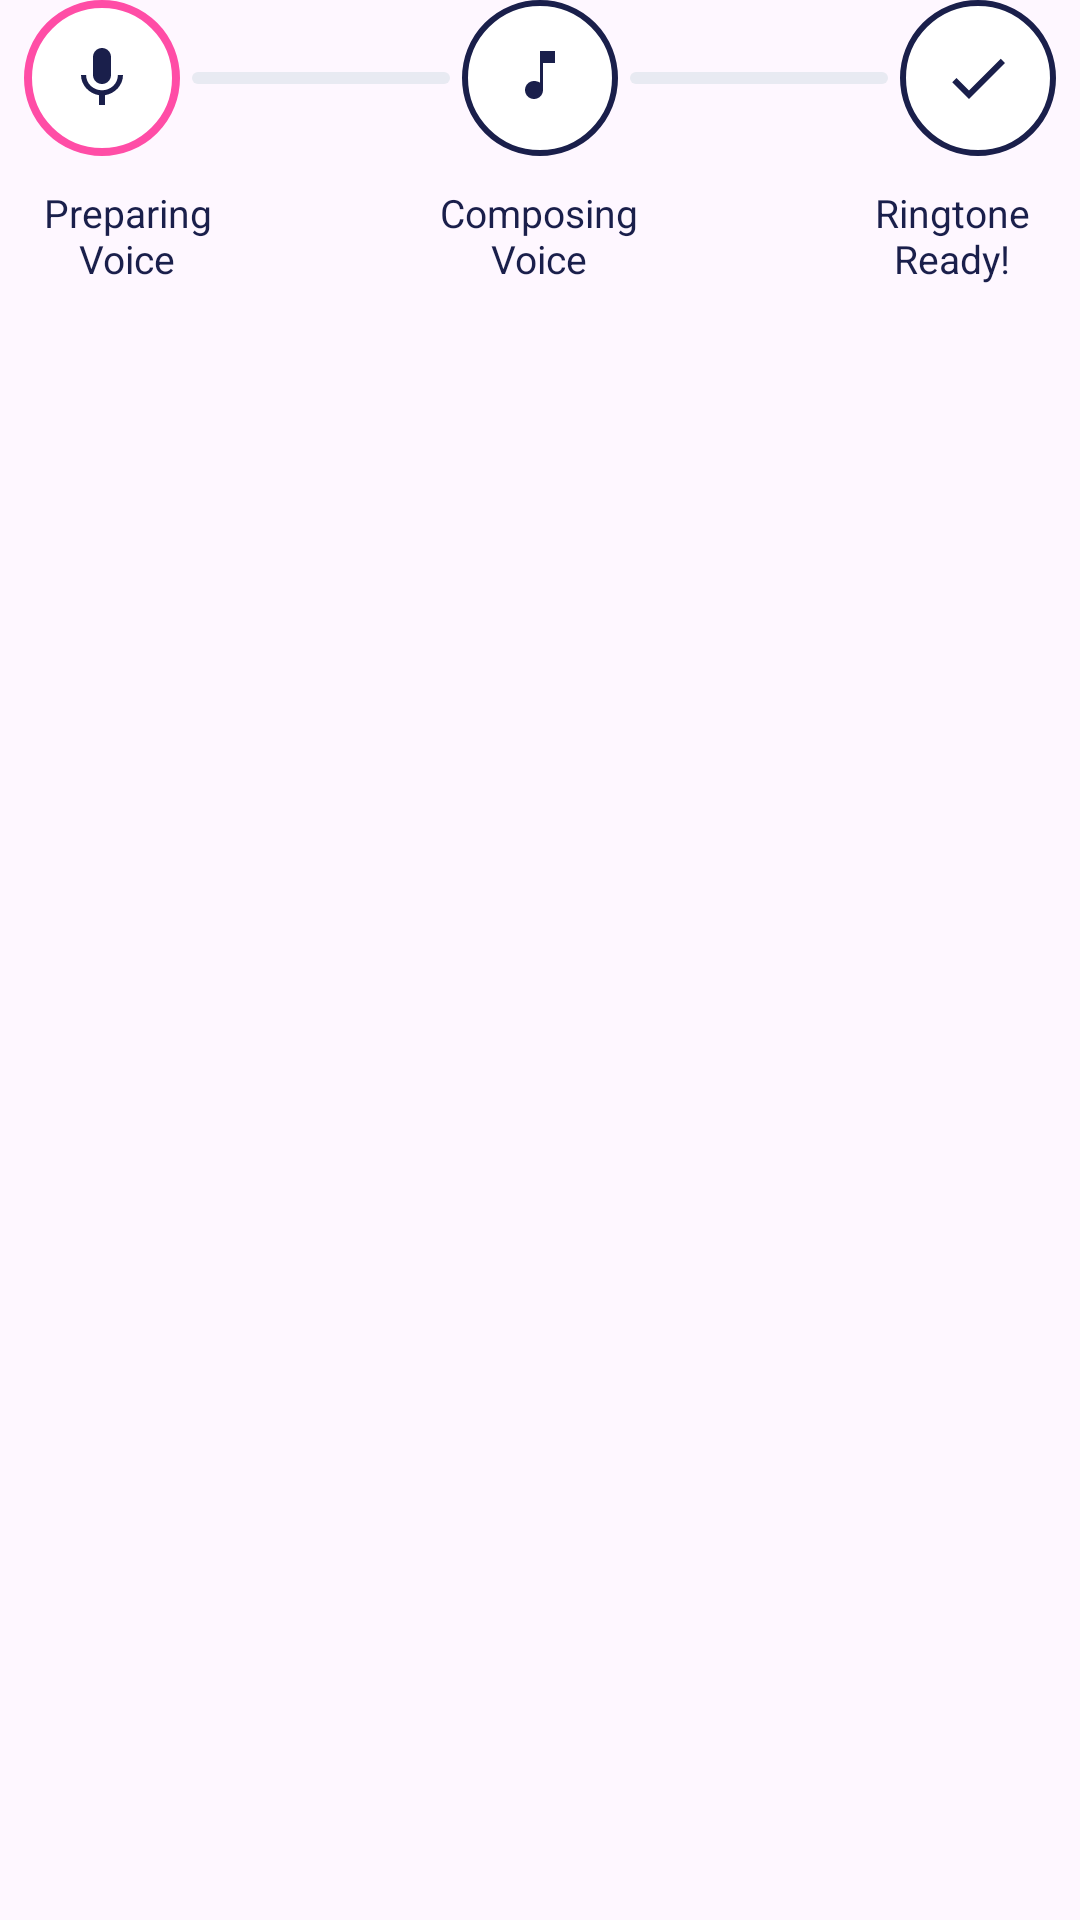

Icon click points for this 1080 x 1920 phone screenshot, format [x,y]:
processing check: [978,79]
processing mic: [102,76]
processing music: [540,75]
